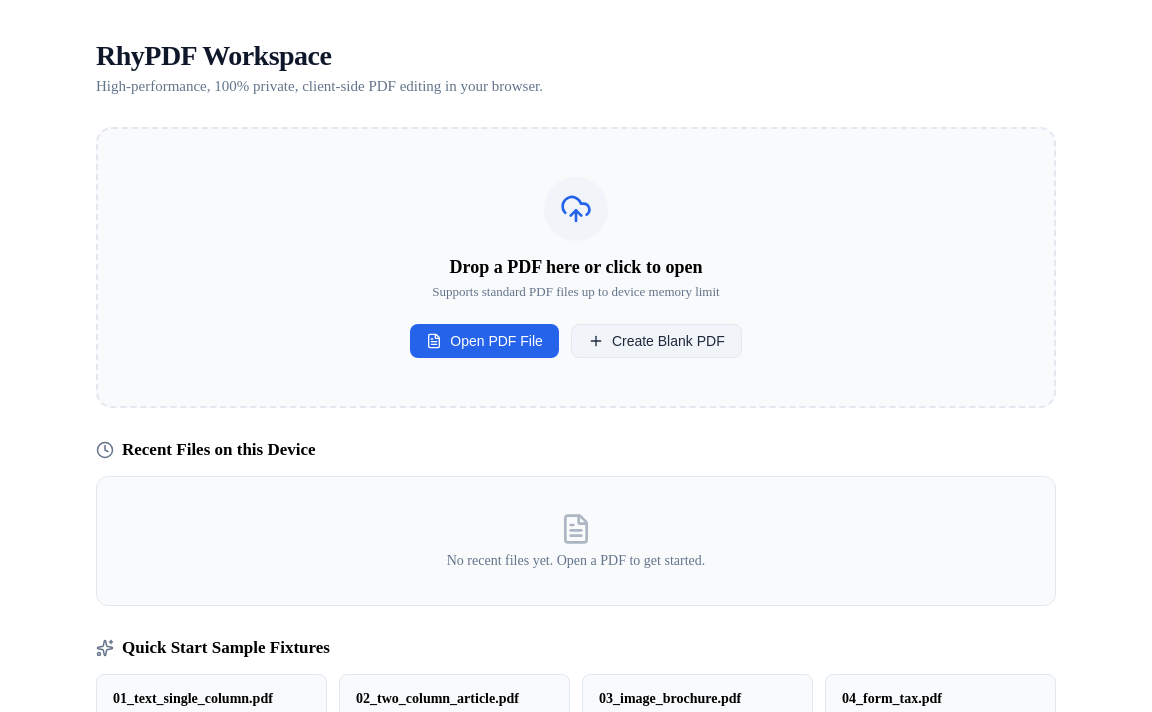
Scenario: Task 4.1: Home screen: drop zone, create blank PDF, recent-files grid with thumbnails › opens CreateBlankPdfDialog when Create Blank button is clicked
Click the button with test id "btn-create-blank-pdf" at [656, 341], box [571,324,742,358]
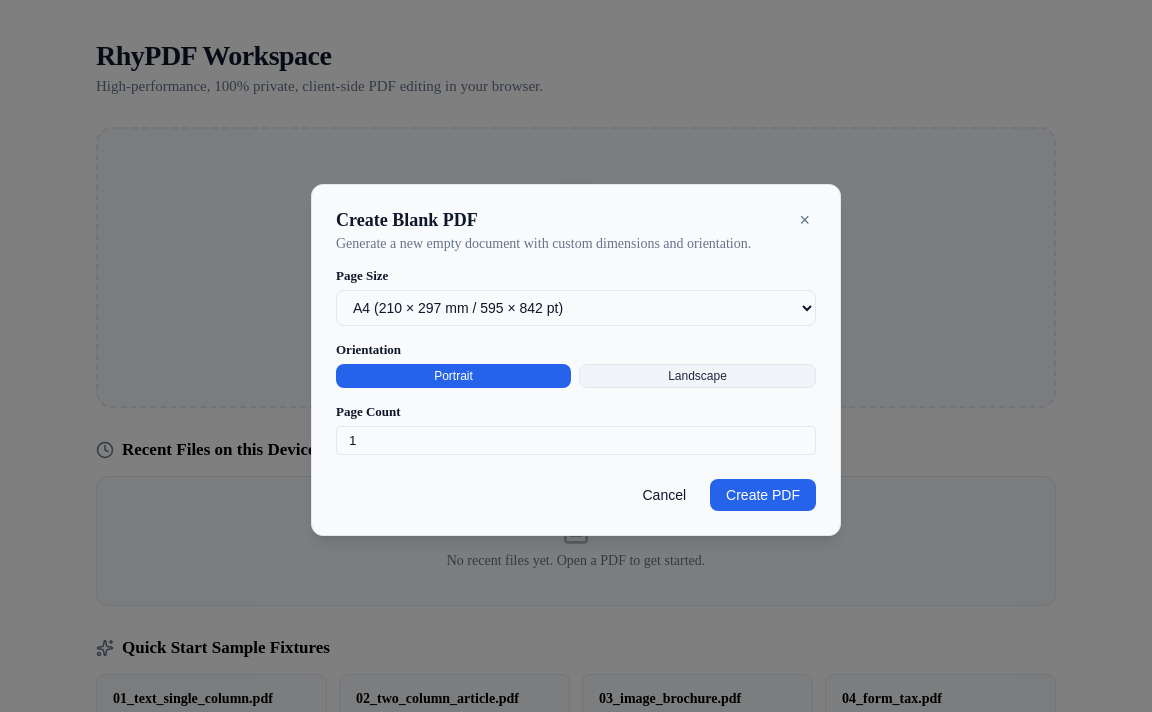
Result: the dialog is shown at [311,184,841,536]
Result: the dialog shows "Create Blank PDF" at [336,210,478,230]
